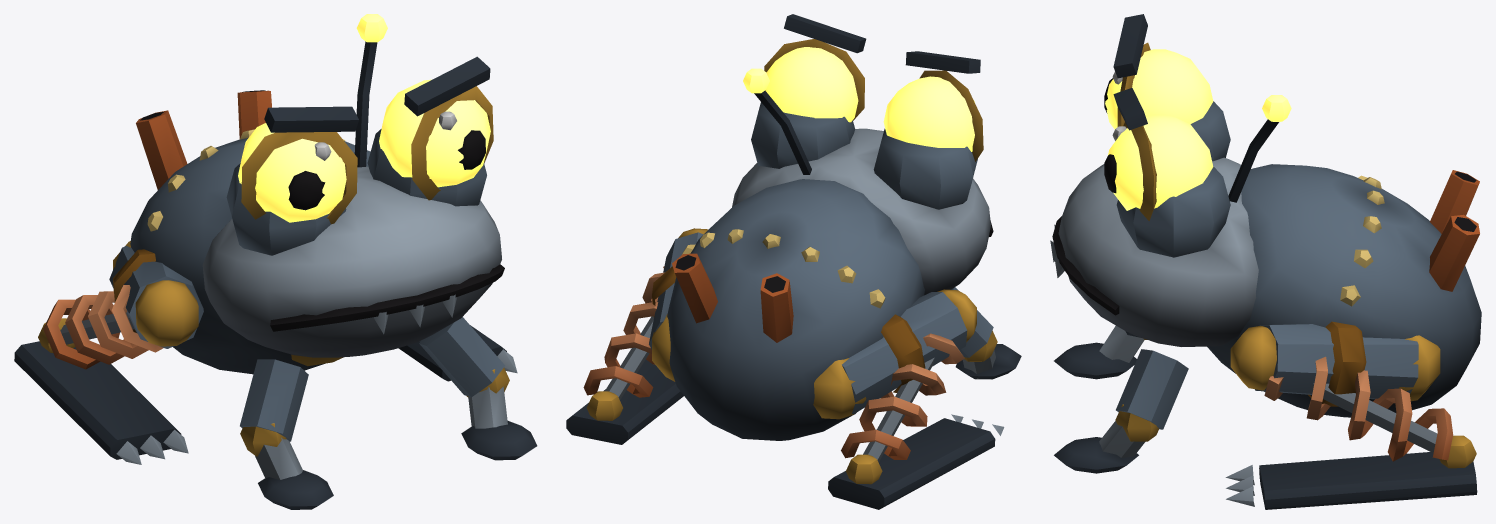
Rendered from hopper_forge.glb.
3 renders of one model, left to right at view 1: azimuth 30°, elevation 25°; view 2: azimuth 150°, elevation 25°; view 3: azimuth 270°, elevation 25°, orthographic. The views are drawn at different scales.
Parts seen in each view (by area): view 1: body, leg_R, leg_L; view 2: body, leg_R, leg_L; view 3: body, leg_L.
Boxes of the visible parts, x1,y1,x2,y2 form: body: (130, 14, 537, 509); leg_R: (14, 241, 203, 464); leg_L: (398, 325, 517, 381); body: (667, 14, 1021, 440); leg_R: (813, 289, 1004, 509); leg_L: (566, 228, 708, 444); body: (1050, 14, 1481, 473); leg_L: (1225, 321, 1477, 509).
Size of the model in its own units: 0.8789 by 0.8 by 0.8724.
